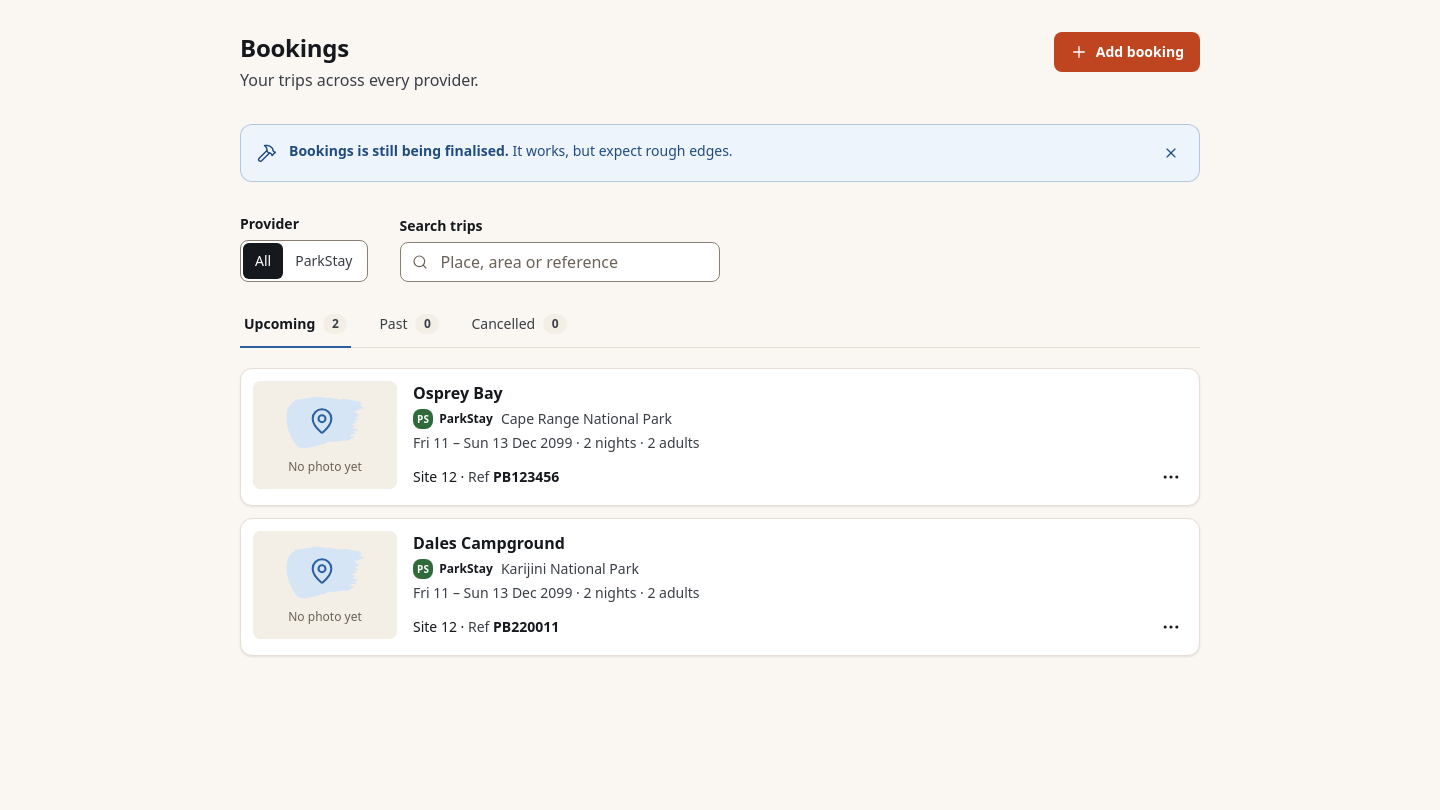
BookingsPage actions › closes the remove confirmation on Escape, returning focus to the menu button
The width and height of the screenshot is (1440, 810).
Click the button named "More actions for Osprey Bay": (1171, 477) [1155, 461, 1187, 493]
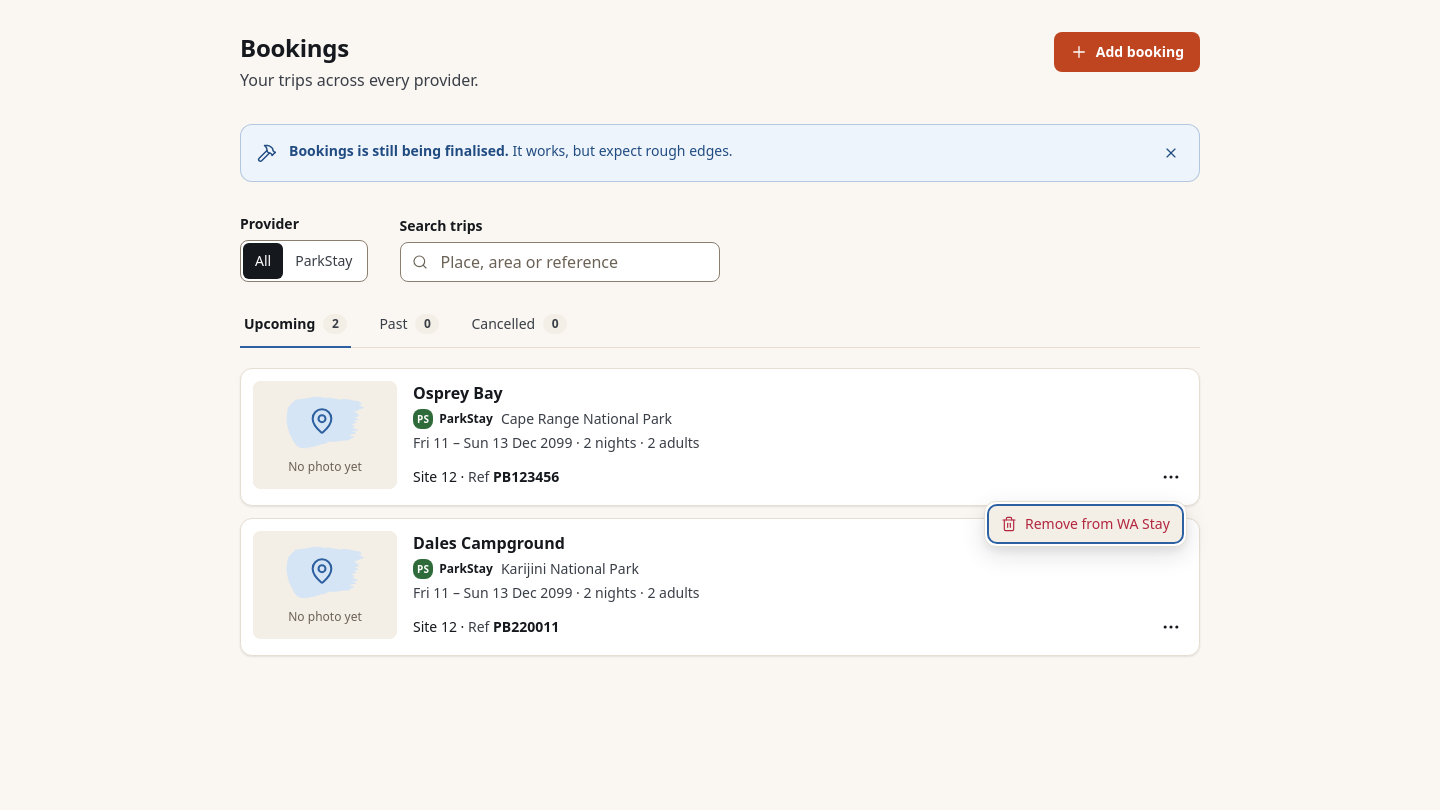
Click the menu item "Remove from WA Stay": (1085, 524) [989, 506, 1182, 542]
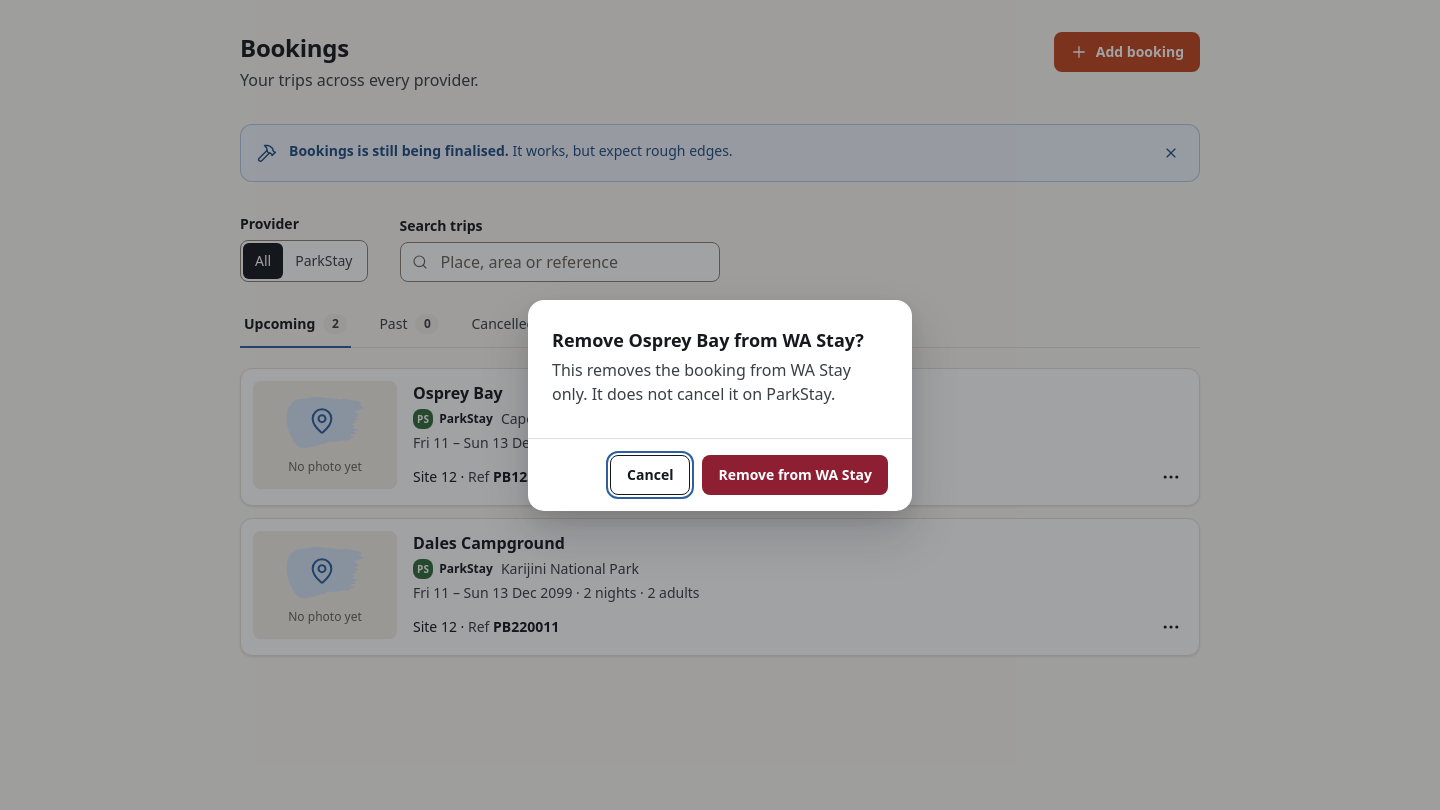
Press Tab
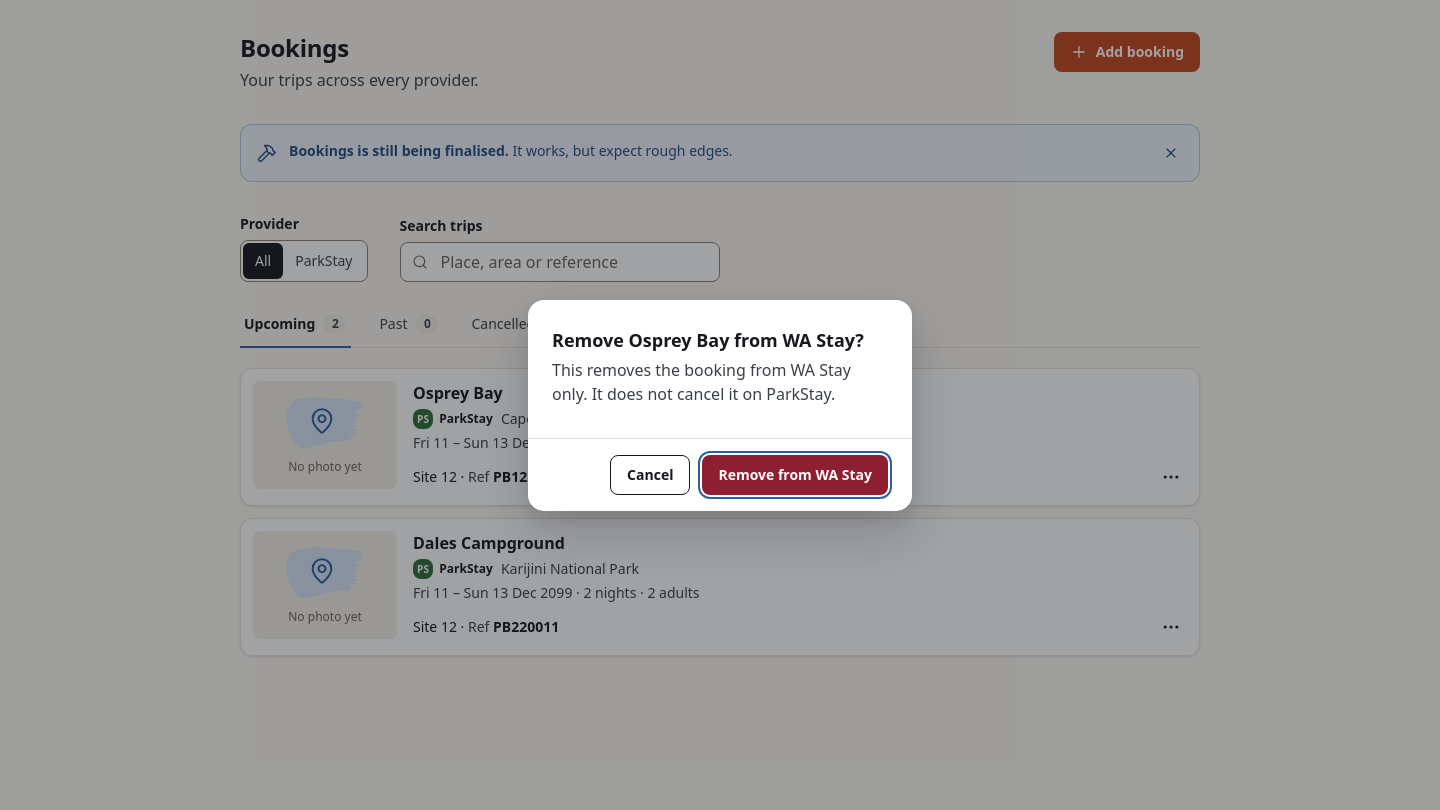
Press Tab
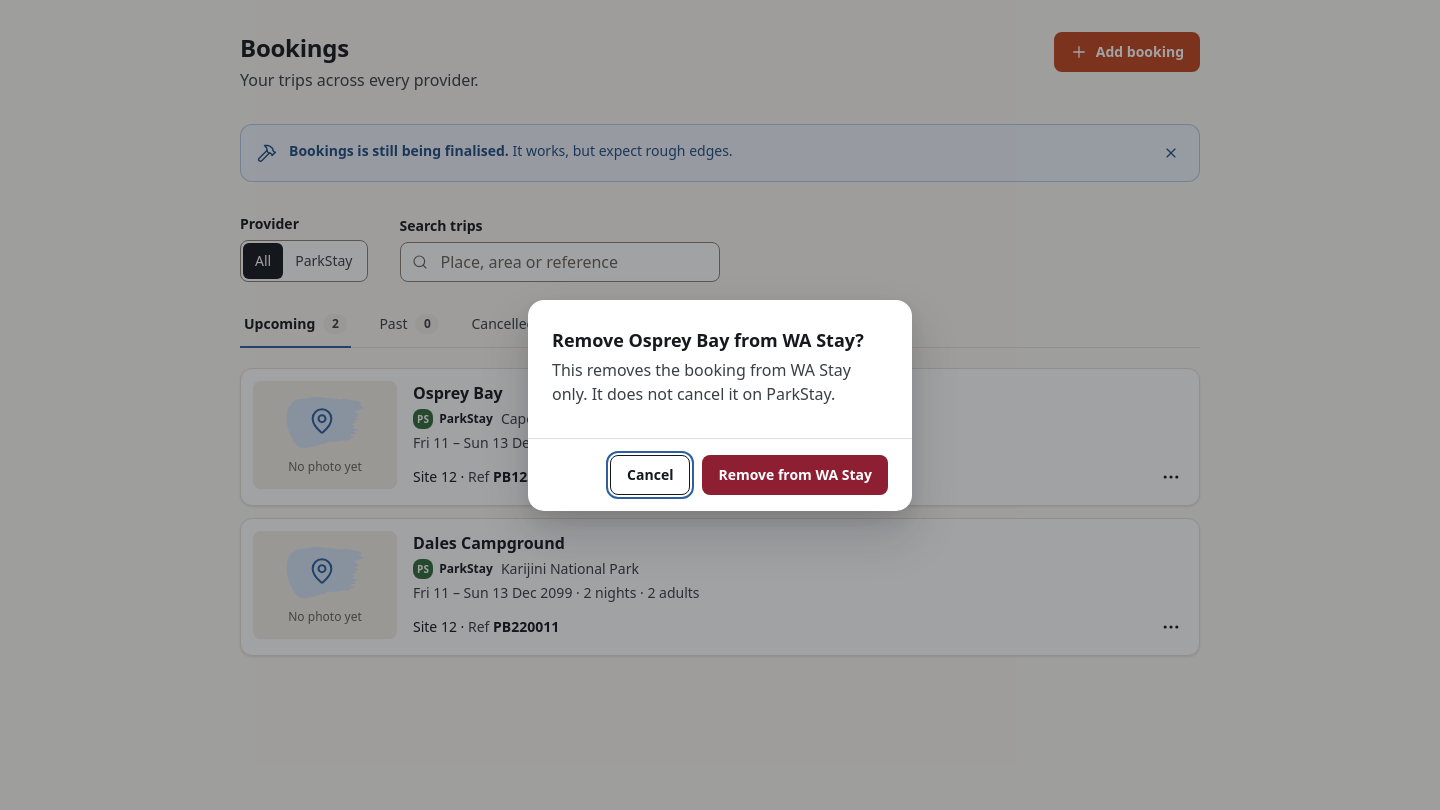
Press Escape
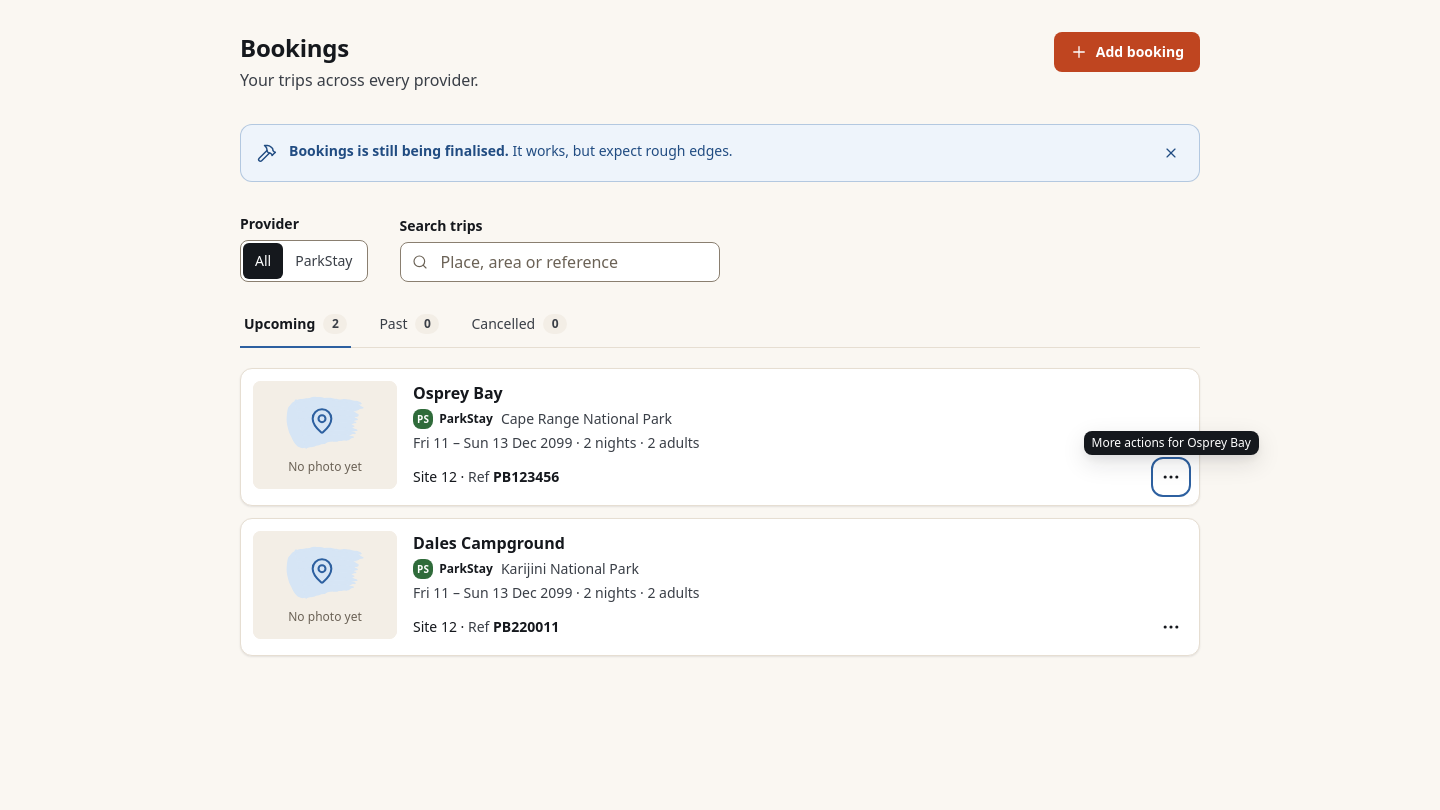
expect the dialog is gone: met
